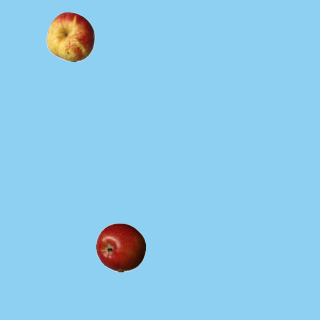Apple Braeburn: (95, 222, 145, 272)
Apple Red Yellow 1: (45, 11, 95, 61)
